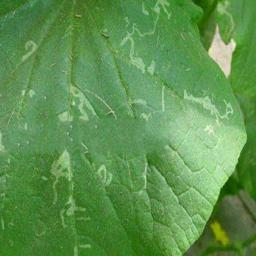liriomyza: (116, 1, 171, 76), (183, 88, 234, 136), (55, 82, 100, 122), (126, 84, 165, 120), (46, 147, 70, 204), (58, 194, 86, 228), (93, 165, 114, 186), (19, 40, 38, 61)
